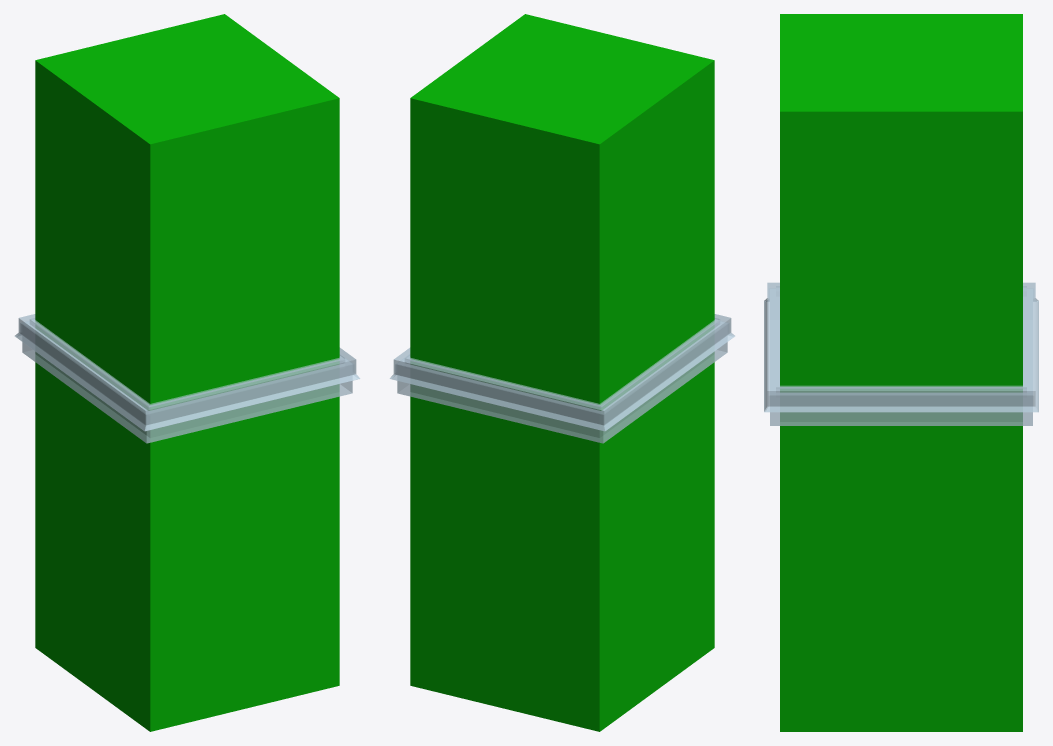
Rendered from window-1180-x-1170mm.glb.
The picture shows the model from 3 angles, left to right: view 1: azimuth 30°, elevation 25°; view 2: azimuth 150°, elevation 25°; view 3: azimuth 270°, elevation 25°; orthographic projection. The views are drawn at different scales.
Parts seen in each view (by area): view 1: 1xS3BCk291UvhgP2dvNxVS, 1Eo2$BaHX42AEkDvQQDocD; view 2: 1xS3BCk291UvhgP2dvNxVS, 1Eo2$BaHX42AEkDvQQDocD; view 3: 1xS3BCk291UvhgP2dvNxVS, 1Eo2$BaHX42AEkDvQQDocD.
Part boxes in pixels (bbox=[...]): 1xS3BCk291UvhgP2dvNxVS: bbox=[35, 14, 339, 731]; 1Eo2$BaHX42AEkDvQQDocD: bbox=[14, 314, 360, 443]; 1xS3BCk291UvhgP2dvNxVS: bbox=[410, 14, 714, 731]; 1Eo2$BaHX42AEkDvQQDocD: bbox=[389, 314, 735, 443]; 1xS3BCk291UvhgP2dvNxVS: bbox=[780, 14, 1022, 731]; 1Eo2$BaHX42AEkDvQQDocD: bbox=[764, 282, 1038, 425].
Bounding box in the file's own units: 1.17 × 3.05 × 1.22.
